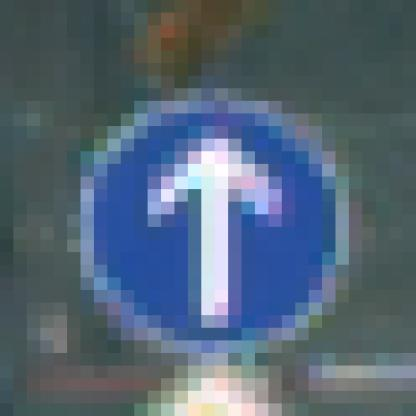AheadOnly: (68, 77, 350, 341)
